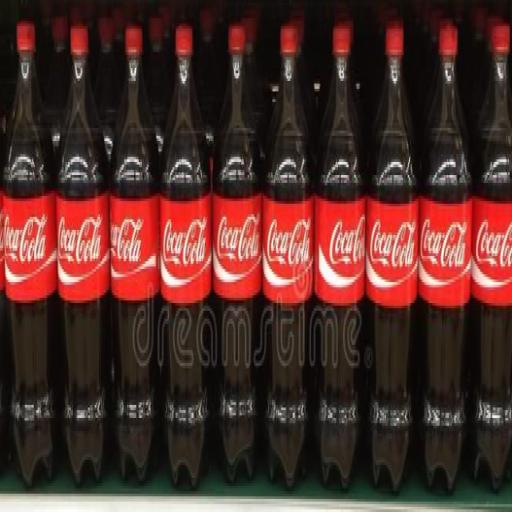coca_cola: (3, 21, 59, 485), (312, 21, 366, 488), (419, 21, 472, 491), (366, 21, 419, 491), (57, 24, 110, 483), (160, 24, 211, 485), (263, 24, 314, 485), (110, 27, 161, 480), (213, 21, 263, 480), (471, 19, 511, 488)
